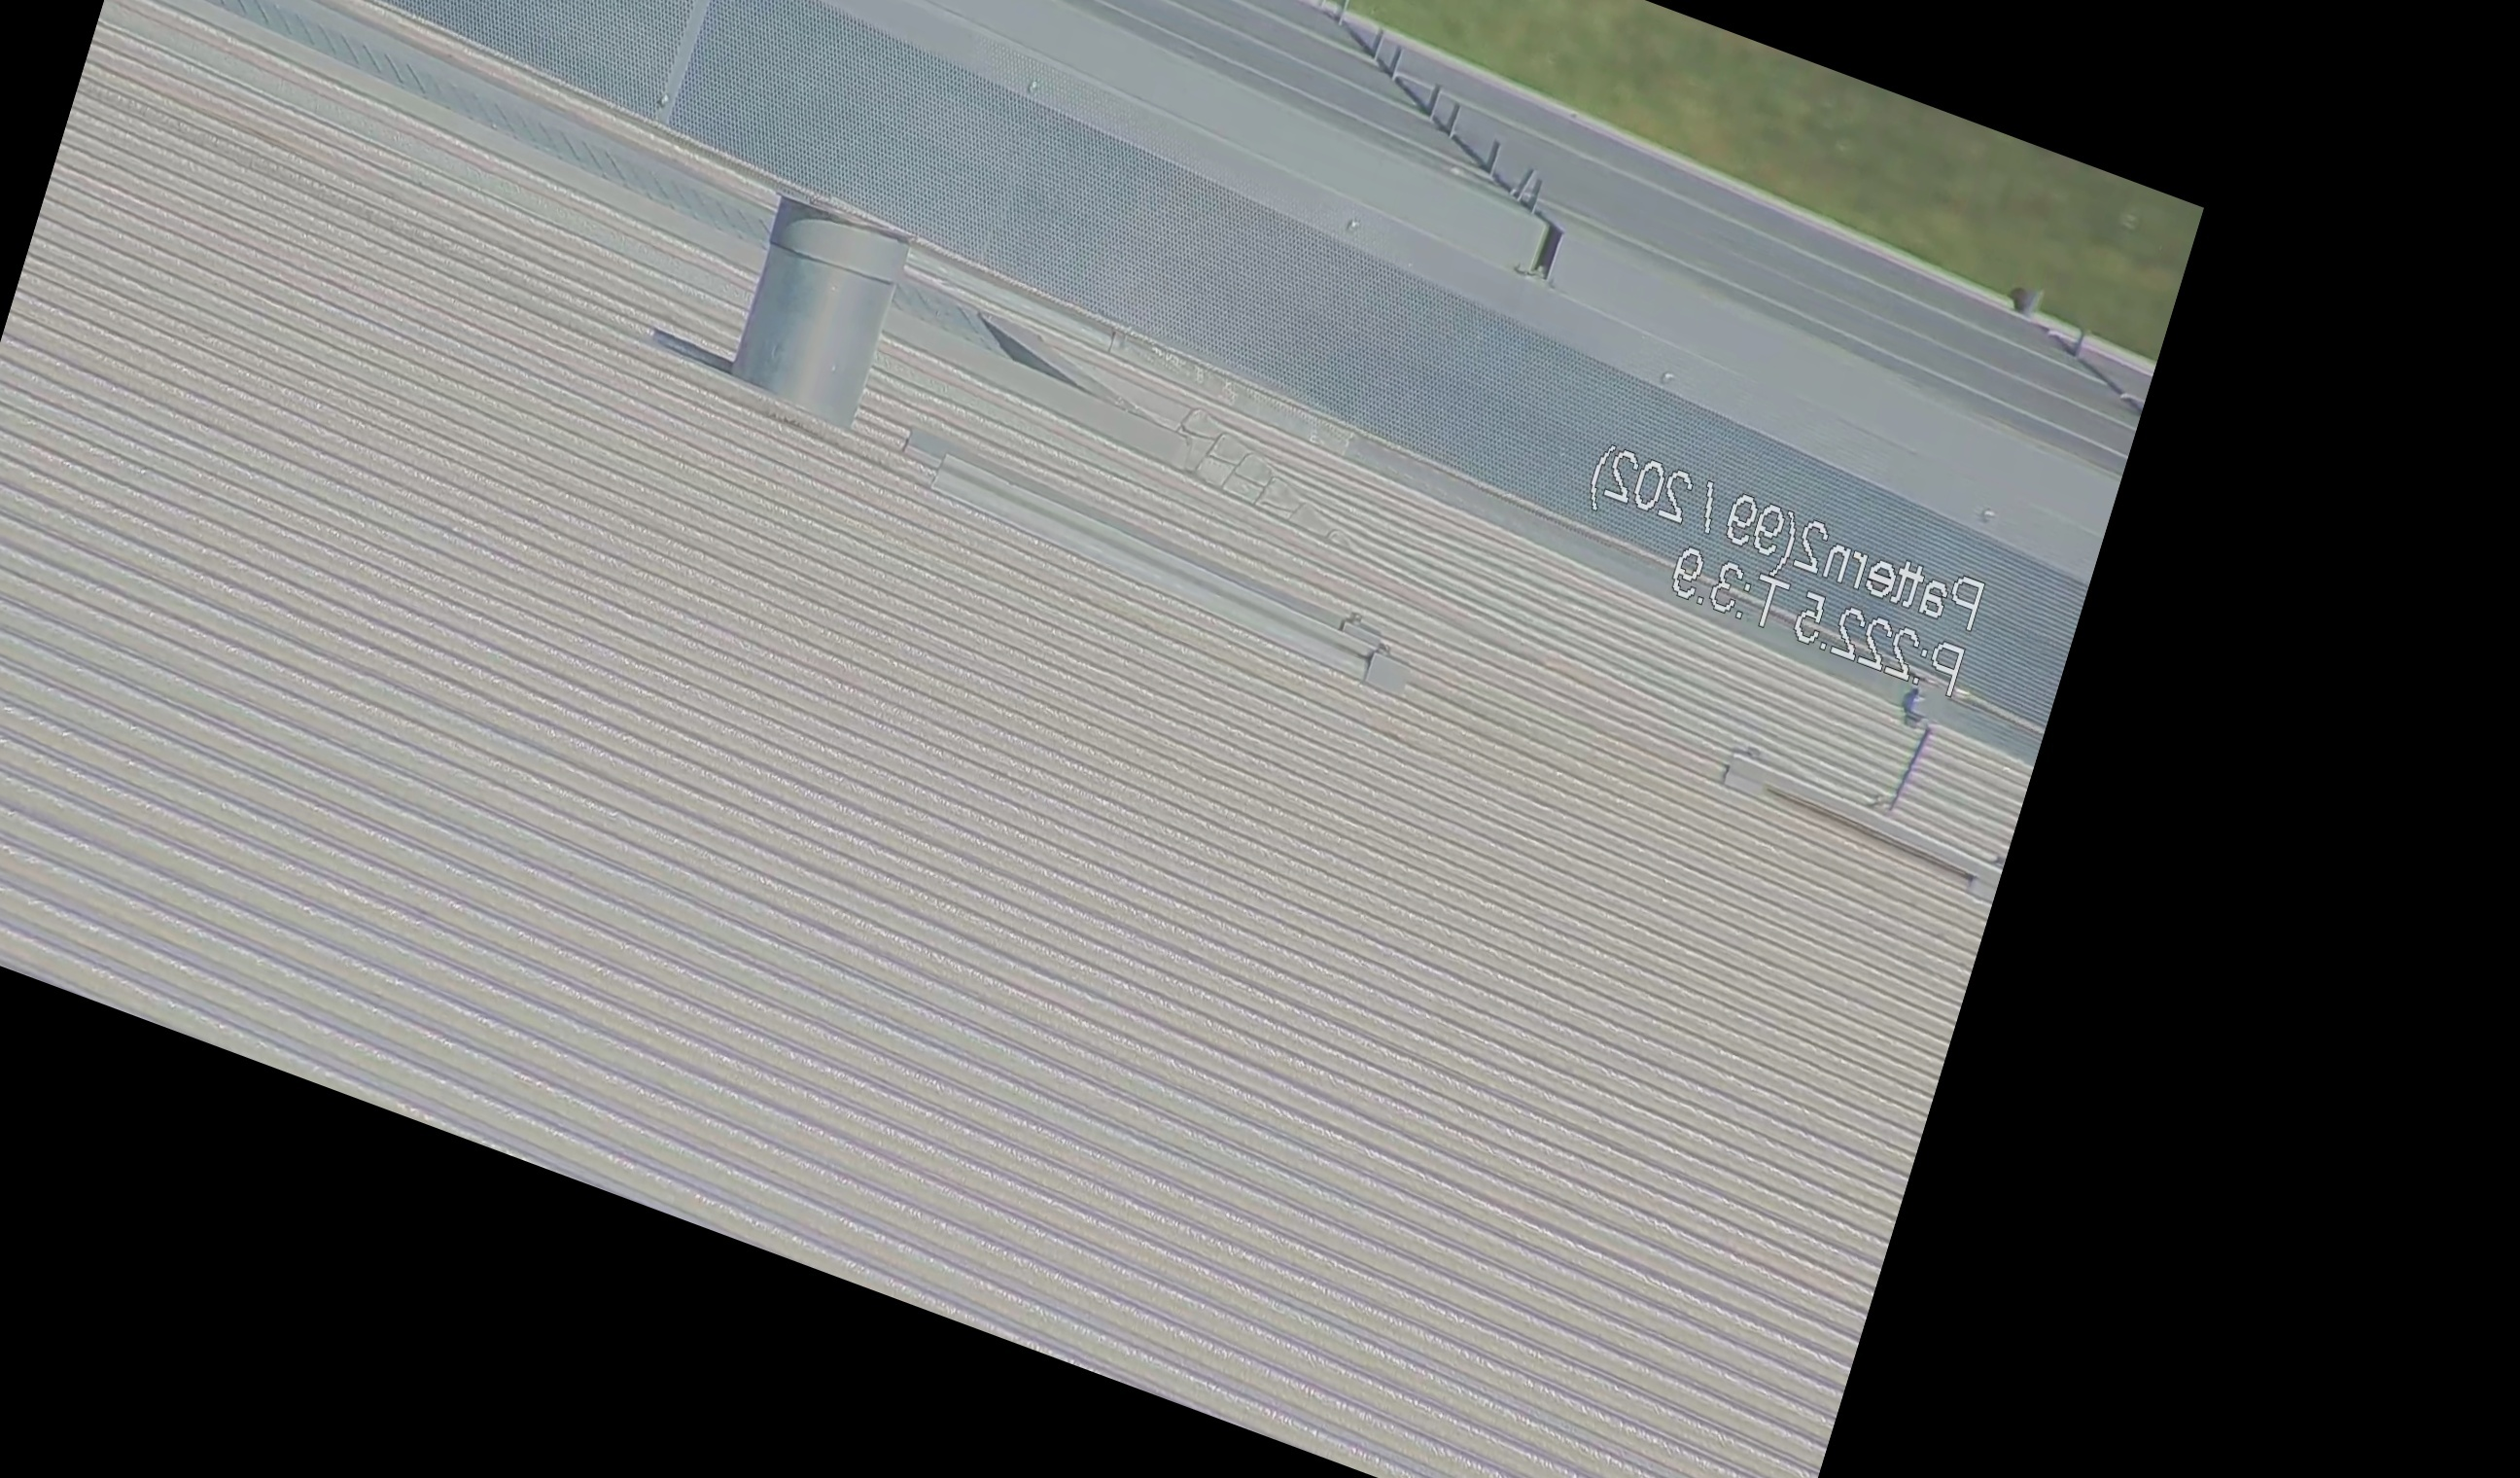Other: (1991, 259, 2066, 329)
